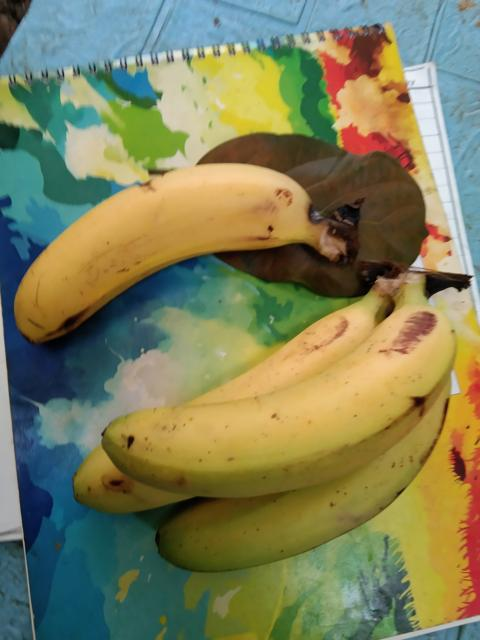ripe: (90, 292, 454, 484), (7, 156, 326, 351)
